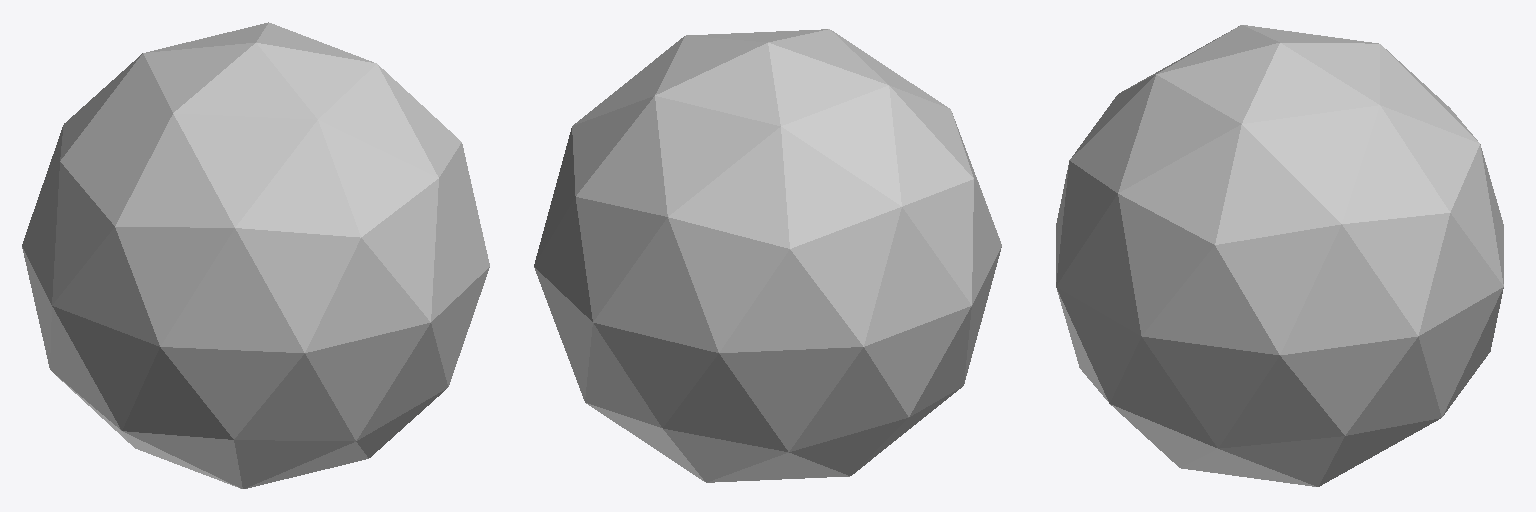
Rendered from firefly5.obj.
3 views of the same model, side by side, from view 1: azimuth 30°, elevation 25°; view 2: azimuth 150°, elevation 25°; view 3: azimuth 270°, elevation 25° (orthographic).
Parts seen in each view (by area): view 1: Icosphere.028; view 2: Icosphere.028; view 3: Icosphere.028.
Part boxes in pixels (x1,y1,x2,y2): Icosphere.028: (22, 22, 489, 488); Icosphere.028: (534, 29, 1001, 482); Icosphere.028: (1056, 25, 1503, 486).
Size of the model in its own units: 0.0346 by 0.0346 by 0.0329.